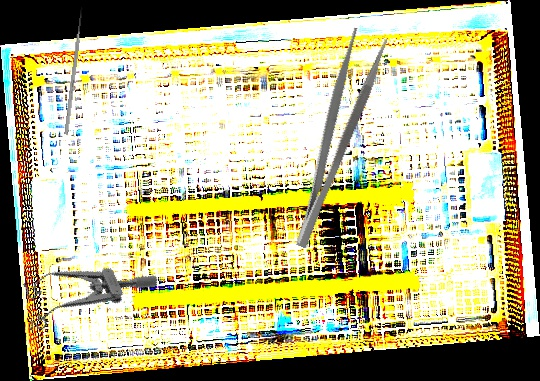Dressing Forceps: (272, 26, 392, 251)
Pusher: (64, 7, 84, 135)
Speculum: (9, 231, 161, 343)
